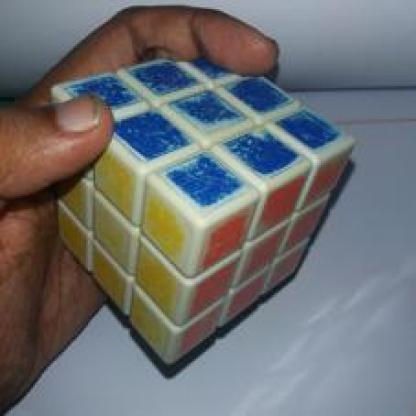cube: (38, 49, 359, 356)
